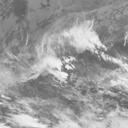cyclone: (30, 21, 103, 84)
